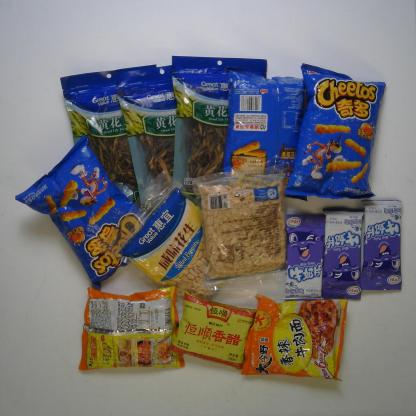Candy: (321, 207, 365, 301), (360, 198, 404, 291), (282, 212, 326, 301)
Dried Food: (170, 55, 268, 199), (59, 63, 158, 205), (112, 64, 176, 209)
Dried Fruit: (99, 167, 248, 310), (192, 160, 298, 289)
Instant Noodles: (241, 292, 348, 383), (77, 284, 186, 371)
Puffed Food: (14, 133, 150, 290), (284, 62, 388, 201), (220, 67, 309, 203)
Seasoner: (168, 289, 258, 371)
